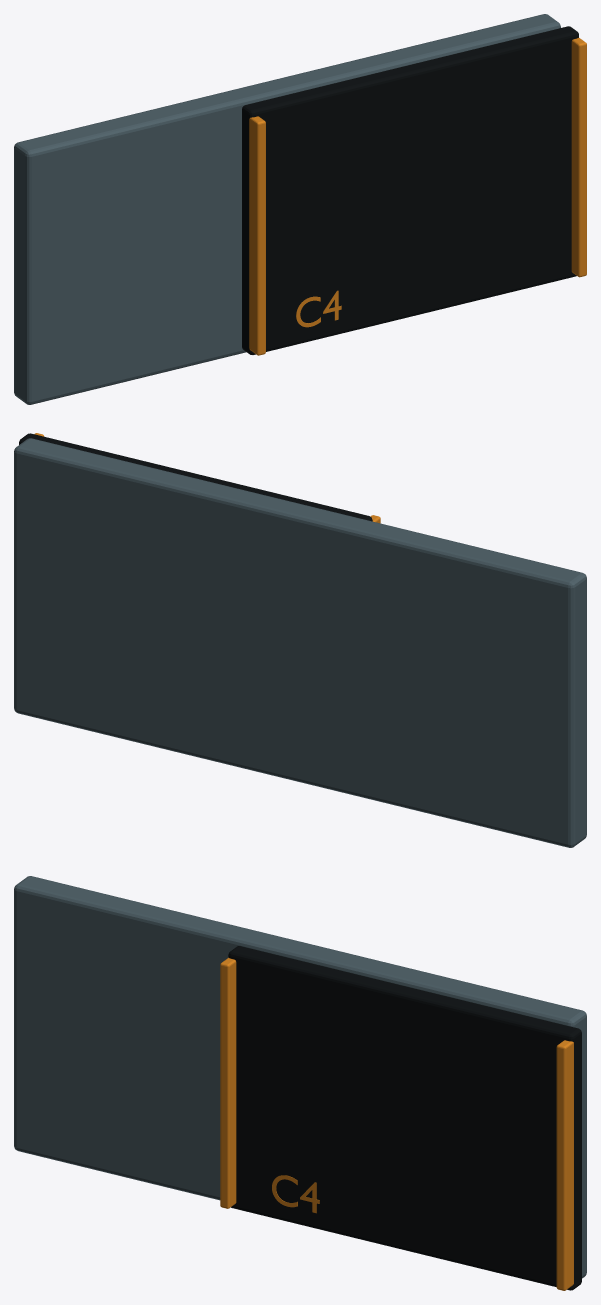
File: slot_c4.obj
The picture shows the model from 3 angles, top to bottom: view 1: azimuth 30°, elevation 25°; view 2: azimuth 150°, elevation 25°; view 3: azimuth 330°, elevation 25°; orthographic projection. The views are drawn at different scales.
Visible parts, largest first — view 1: flex__slot_c4__staging_tray, flex__slot_c4__extension, flex__slot_c4__locator, flex__slot_c4__locator.001, flex__slot_c4__id; view 2: flex__slot_c4__extension, flex__slot_c4__staging_tray; view 3: flex__slot_c4__staging_tray, flex__slot_c4__extension, flex__slot_c4__locator.001, flex__slot_c4__locator, flex__slot_c4__id.
Boxes of the visible parts, <box> form: flex__slot_c4__staging_tray: <box>242,26,578,354</box>; flex__slot_c4__extension: <box>14,14,560,404</box>; flex__slot_c4__locator: <box>249,116,265,355</box>; flex__slot_c4__locator.001: <box>571,38,586,277</box>; flex__slot_c4__id: <box>296,290,341,327</box>; flex__slot_c4__extension: <box>14,438,586,847</box>; flex__slot_c4__staging_tray: <box>19,433,372,521</box>; flex__slot_c4__staging_tray: <box>228,946,581,1290</box>; flex__slot_c4__extension: <box>14,876,586,1278</box>; flex__slot_c4__locator.001: <box>556,1040,573,1290</box>; flex__slot_c4__locator: <box>220,957,236,1208</box>; flex__slot_c4__id: <box>272,1175,319,1213</box>.
Bounding box in the file's own units: 0.244 × 0.109 × 0.0245.
